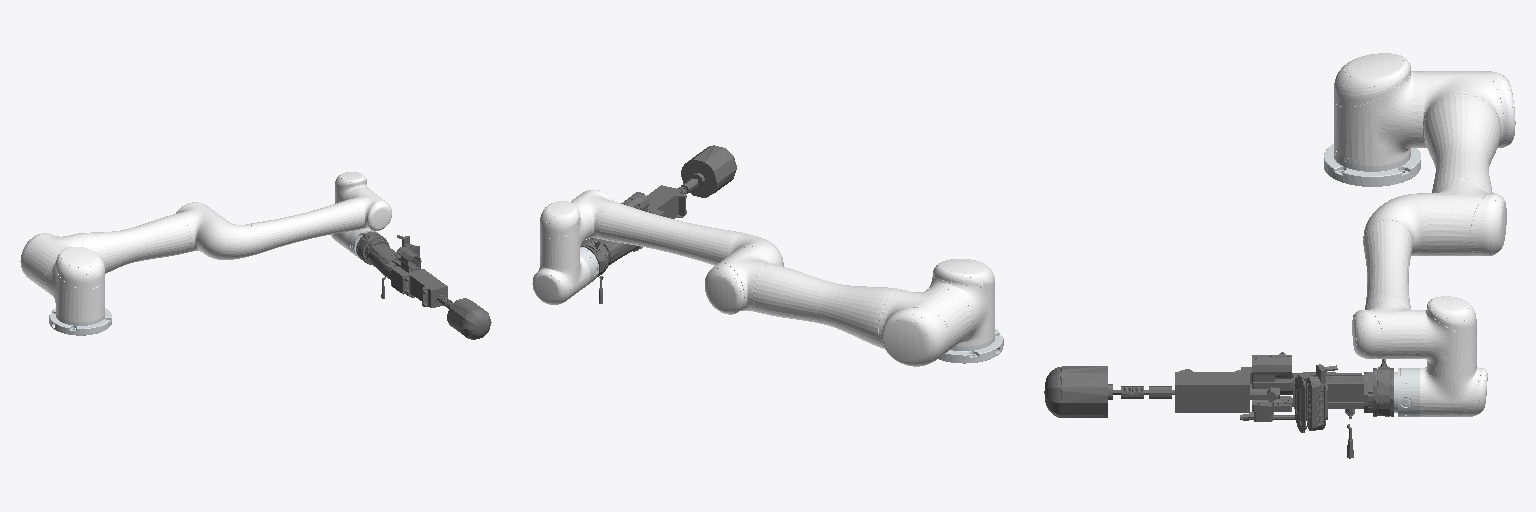
The robot description file, URDF, robot "ec66":
<?xml version="1.0" encoding="utf-8"?>
<!-- This URDF was automatically created by SolidWorks to URDF Exporter! Originally created by [author] ([email redacted]) 
     Commit Version: 1.6.0-1-g15f4949  Build Version: 1.6.7594.29634
     For more information, please see http://wiki.ros.org/sw_urdf_exporter -->
<robot
  name="ec66">
  <link
    name="base_link">
    <inertial>
      <origin
        xyz="0.000397608074828363 -1.29096807323018E-08 0.0126048532896169"
        rpy="0 0 0" />
      <mass
        value="1.11331791916805" />
      <inertia
        ixx="0.00146415393806588"
        ixy="-1.183188977766E-08"
        ixz="1.59388989762753E-06"
        iyy="0.00144024590571973"
        iyz="2.22170924273758E-11"
        izz="0.00277015131706661" />
    </inertial>
    <visual>
      <origin
        xyz="0 0 0"
        rpy="0 0 0" />
      <geometry>
        <mesh
          filename="package://ec66/meshes/base_link.STL" />
      </geometry>
      <material
        name="">
        <color
          rgba="0.898039215686275 0.917647058823529 0.929411764705882 1" />
      </material>
    </visual>
    <collision>
      <origin
        xyz="0 0 0"
        rpy="0 0 0" />
      <geometry>
        <mesh
          filename="package://ec66/meshes/base_link.STL" />
      </geometry>
    </collision>
  </link>
  <link
    name="baseJoint_Link">
    <inertial>
      <origin
        xyz="-2.47498315354449E-06 0.00826039958569003 0.0988378255398768"
        rpy="0 0 0" />
      <mass
        value="4.77747725763671" />
      <inertia
        ixx="0.00849289454076846"
        ixy="-5.32234800519548E-07"
        ixz="7.16578283706854E-08"
        iyy="0.00786131589240539"
        iyz="-0.00101643925063016"
        izz="0.00940237441881192" />
    </inertial>
    <visual>
      <origin
        xyz="0 0 0"
        rpy="0 0 0" />
      <geometry>
        <mesh
          filename="package://ec66/meshes/baseJoint_Link.STL" />
      </geometry>
      <material
        name="">
        <color
          rgba="1 1 1 1" />
      </material>
    </visual>
    <collision>
      <origin
        xyz="0 0 0"
        rpy="0 0 0" />
      <geometry>
        <mesh
          filename="package://ec66/meshes/baseJoint_Link.STL" />
      </geometry>
    </collision>
  </link>
  <joint
    name="baseJoint"
    type="revolute">
    <origin
      xyz="0 0 0"
      rpy="0 0 0" />
    <parent
      link="base_link" />
    <child
      link="baseJoint_Link" />
    <axis
      xyz="0 0 1" />
    <limit
      lower="-6.28"
      upper="6.28"
      effort="26"
      velocity="2.6" />
  </joint>
  <link
    name="shoulderJoint_Link">
    <inertial>
      <origin
        xyz="0.176379424035895 1.5979752906875E-06 0.139316565910418"
        rpy="0 0 0" />
      <mass
        value="13.090272465815" />
      <inertia
        ixx="0.0177158094414229"
        ixy="4.84272694421971E-07"
        ixz="-0.000567522549261307"
        iyy="0.0592307738592172"
        iyz="4.54387099656059E-07"
        izz="0.0603696439068193" />
    </inertial>
    <visual>
      <origin
        xyz="0 0 0"
        rpy="0 0 0" />
      <geometry>
        <mesh
          filename="package://ec66/meshes/shoulderJoint_Link.STL" />
      </geometry>
      <material
        name="">
        <color
          rgba="1 1 1 1" />
      </material>
    </visual>
    <collision>
      <origin
        xyz="0 0 0"
        rpy="0 0 0" />
      <geometry>
        <mesh
          filename="package://ec66/meshes/shoulderJoint_Link.STL" />
      </geometry>
    </collision>
  </link>
  <joint
    name="shoulderJoint"
    type="revolute">
    <origin
      xyz="0 0 0.096"
      rpy="-1.5708 0 0" />
    <parent
      link="baseJoint_Link" />
    <child
      link="shoulderJoint_Link" />
    <axis
      xyz="0 0 1" />
    <limit
      lower="-6.28"
      upper="6.28"
      effort="26"
      velocity="2.6" />
  </joint>
  <link
    name="elbowJoint_Link">
    <inertial>
      <origin
        xyz="0.20071 -8.4375E-06 0.028003"
        rpy="0 0 0" />
      <mass
        value="5.7608" />
      <inertia
        ixx="0.0042193"
        ixy="-1.2634E-07"
        ixz="0.00019659"
        iyy="0.024537"
        iyz="-4.4647E-07"
        izz="0.024537" />
    </inertial>
    <visual>
      <origin
        xyz="0 0 0"
        rpy="0 0 0" />
      <geometry>
        <mesh
          filename="package://ec66/meshes/elbowJoint_Link.STL" />
      </geometry>
      <material
        name="">
        <color
          rgba="1 1 1 1" />
      </material>
    </visual>
    <collision>
      <origin
        xyz="0 0 0"
        rpy="0 0 0" />
      <geometry>
        <mesh
          filename="package://ec66/meshes/elbowJoint_Link.STL" />
      </geometry>
    </collision>
  </link>
  <joint
    name="elbowJoint"
    type="revolute">
    <origin
      xyz="0.418 0 0"
      rpy="0 0 0" />
    <parent
      link="shoulderJoint_Link" />
    <child
      link="elbowJoint_Link" />
    <axis
      xyz="0 0 1" />
    <limit
      lower="-6.28"
      upper="6.28"
      effort="26"
      velocity="3.14" />
  </joint>
  <link
    name="wrist1Joint_Link">
    <inertial>
      <origin
        xyz="-1.0179E-06 -0.00072011 -0.006012"
        rpy="0 0 0" />
      <mass
        value="1.4325" />
      <inertia
        ixx="0.0011124"
        ixy="-3.2957E-08"
        ixz="-3.2784E-08"
        iyy="0.0011805"
        iyz="-0.00015657"
        izz="0.0010097" />
    </inertial>
    <visual>
      <origin
        xyz="0 0 0"
        rpy="0 0 0" />
      <geometry>
        <mesh
          filename="package://ec66/meshes/wrist1Joint_Link.STL" />
      </geometry>
      <material
        name="">
        <color
          rgba="1 1 1 1" />
      </material>
    </visual>
    <collision>
      <origin
        xyz="0 0 0"
        rpy="0 0 0" />
      <geometry>
        <mesh
          filename="package://ec66/meshes/wrist1Joint_Link.STL" />
      </geometry>
    </collision>
  </link>
  <joint
    name="wrist1Joint"
    type="revolute">
    <origin
      xyz="0.398 0 0.122"
      rpy="0 0 0" />
    <parent
      link="elbowJoint_Link" />
    <child
      link="wrist1Joint_Link" />
    <axis
      xyz="0 0 1" />
    <limit
      lower="-6.28"
      upper="6.28"
      effort="26"
      velocity="3.9" />
  </joint>
  <link
    name="wrist2Joint_Link">
    <inertial>
      <origin
        xyz="-1.0206E-06 -0.0007201 -0.006012"
        rpy="0 0 0" />
      <mass
        value="1.4325" />
      <inertia
        ixx="0.0011124"
        ixy="-3.2951E-08"
        ixz="-3.2928E-08"
        iyy="0.0011805"
        iyz="-0.00015657"
        izz="0.0010097" />
    </inertial>
    <visual>
      <origin
        xyz="0 0 0"
        rpy="0 0 0" />
      <geometry>
        <mesh
          filename="package://ec66/meshes/wrist2Joint_Link.STL" />
      </geometry>
      <material
        name="">
        <color
          rgba="1 1 1 1" />
      </material>
    </visual>
    <collision>
      <origin
        xyz="0 0 0"
        rpy="0 0 0" />
      <geometry>
        <mesh
          filename="package://ec66/meshes/wrist2Joint_Link.STL" />
      </geometry>
    </collision>
  </link>
  <joint
    name="wrist2Joint"
    type="revolute">
    <origin
      xyz="0 0.098 0"
      rpy="-1.5708 0 0" />
    <parent
      link="wrist1Joint_Link" />
    <child
      link="wrist2Joint_Link" />
    <axis
      xyz="0 0 1" />
    <limit
      lower="-6.28"
      upper="6.28"
      effort="26"
      velocity="3.9" />
  </joint>
  <link
    name="wrist3Joint_Link">
    <inertial>
      <origin
        xyz="-1.5919E-08 2.6113E-05 -0.021169"
        rpy="0 0 0" />
      <mass
        value="0.44188" />
      <inertia
        ixx="0.00020868"
        ixy="-1.5481E-09"
        ixz="-2.5463E-10"
        iyy="0.0002079"
        iyz="-2.0995E-07"
        izz="0.00031474" />
    </inertial>
    <visual>
      <origin
        xyz="0 0 0"
        rpy="0 0 0" />
      <geometry>
        <mesh
          filename="package://ec66/meshes/wrist3Joint_Link.STL" />
      </geometry>
      <material
        name="">
        <color
          rgba="0.89804 0.91765 0.92941 1" />
      </material>
    </visual>
    <collision>
      <origin
        xyz="0 0 0"
        rpy="0 0 0" />
      <geometry>
        <mesh
          filename="package://ec66/meshes/wrist3Joint_Link.STL" />
      </geometry>
    </collision>
  </link>
  <joint
    name="wrist3Joint"
    type="revolute">
    <origin
      xyz="0 0.089 0"
      rpy="-1.5708 0 0" />
    <parent
      link="wrist2Joint_Link" />
    <child
      link="wrist3Joint_Link" />
    <axis
      xyz="0 0 1" />
    <limit
      lower="-6.28"
      upper="6.28"
      effort="26"
      velocity="3.9" />
  </joint>
  <link name="brush">
    <inertial>
      <origin xyz="0.1175 -0.117 0.254315" rpy="-1.5708 0 0" />
      <mass value="0.2" />
      <inertia ixx="0.0001" ixy="0" ixz="0" iyy="0.0001" iyz="0" izz="0.0001" />
    </inertial>
    <visual>
      <origin xyz="0.1175 -0.117 0.254315" rpy="-1.5708 0 0" />
      <geometry>
        <mesh filename="package://ec66/meshes/brush.STL" scale = "0.001 0.001 0.001"/>
      </geometry>
      <material name="">
        <color rgba="0.5 0.5 0.5 1" />
      </material>
    </visual>
    <collision>
      <origin xyz="0.1175 -0.117 0.254315" rpy="-1.5708 0 0" />
      <geometry>
        <mesh filename="package://ec66/meshes/brush.STL" scale="0.001 0.001 0.001"/>
      </geometry>
    </collision>
  </link>
  <joint name="brush_joint" type="fixed">
    <origin xyz="0 0 0.53626" rpy="0 0 0" />
    <parent link="wrist3Joint_Link" />
    <child link="brush" />
  </joint>
</robot>

--- What the picture shows (computed from the rendered views, not written in the file) ---
The picture shows the robot from 3 angles, left to right: view 1: azimuth 30°, elevation 25°; view 2: azimuth 150°, elevation 25°; view 3: azimuth 270°, elevation 25°; orthographic projection.
Model ec66 with 8 links and 7 joints (6 revolute, 1 fixed), rooted at base_link, posed all joints at 0.
Links seen in each view (by area): view 1: shoulderJoint_Link, elbowJoint_Link, brush, baseJoint_Link, base_link, wrist1Joint_Link; view 2: shoulderJoint_Link, elbowJoint_Link, brush, baseJoint_Link, wrist1Joint_Link, wrist2Joint_Link, base_link; view 3: shoulderJoint_Link, brush, elbowJoint_Link, baseJoint_Link, wrist1Joint_Link, wrist2Joint_Link, base_link, wrist3Joint_Link.
Link boxes in pixels (<box>): shoulderJoint_Link: <box>20,202,225,293</box>; elbowJoint_Link: <box>198,188,391,259</box>; brush: <box>356,232,491,339</box>; baseJoint_Link: <box>45,247,104,321</box>; base_link: <box>49,308,111,335</box>; wrist1Joint_Link: <box>335,172,368,203</box>; shoulderJoint_Link: <box>705,246,971,366</box>; elbowJoint_Link: <box>571,190,783,266</box>; brush: <box>581,145,736,303</box>; baseJoint_Link: <box>929,259,994,346</box>; wrist1Joint_Link: <box>540,201,589,265</box>; wrist2Joint_Link: <box>532,257,589,304</box>; base_link: <box>938,329,1003,363</box>; shoulderJoint_Link: <box>1418,71,1515,255</box>; brush: <box>1044,352,1393,458</box>; elbowJoint_Link: <box>1352,193,1422,358</box>; baseJoint_Link: <box>1334,53,1417,165</box>; wrist1Joint_Link: <box>1420,296,1476,373</box>; wrist2Joint_Link: <box>1420,365,1487,416</box>; base_link: <box>1324,144,1420,186</box>; wrist3Joint_Link: <box>1394,368,1419,416</box>.
Bounding box of the posed robot: 0.9528 × 0.7229 × 0.2899 m (x, y, z).
Meshes: 8 distinct files referenced, 8 mesh visuals loaded (8 binary STL).